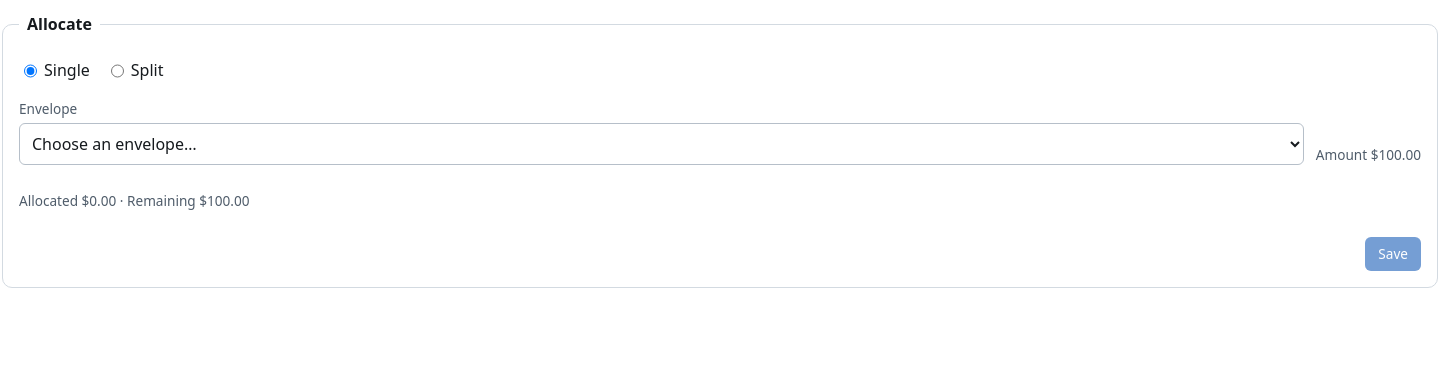
AllocationEditor accelerators (Slice 2) › Enter in an amount adds the next row (keyboard-first)
The width and height of the screenshot is (1440, 373).
Click the radio button labelled "Split" at (117, 71), box left=111, top=55, right=124, bottom=87
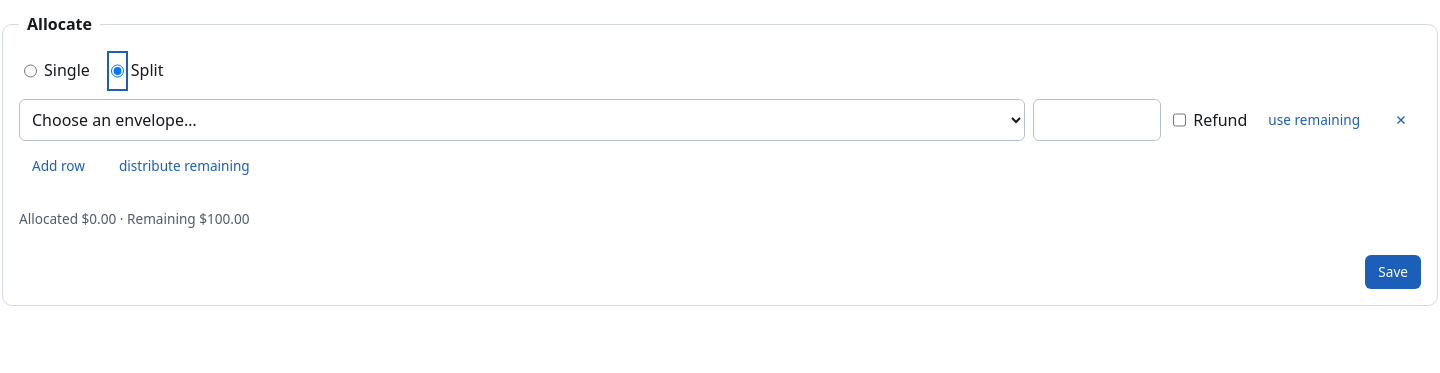
Type "40.00" into the field named "Amount for row 1" at (1097, 120), box left=1033, top=99, right=1161, bottom=141
Then press Enter
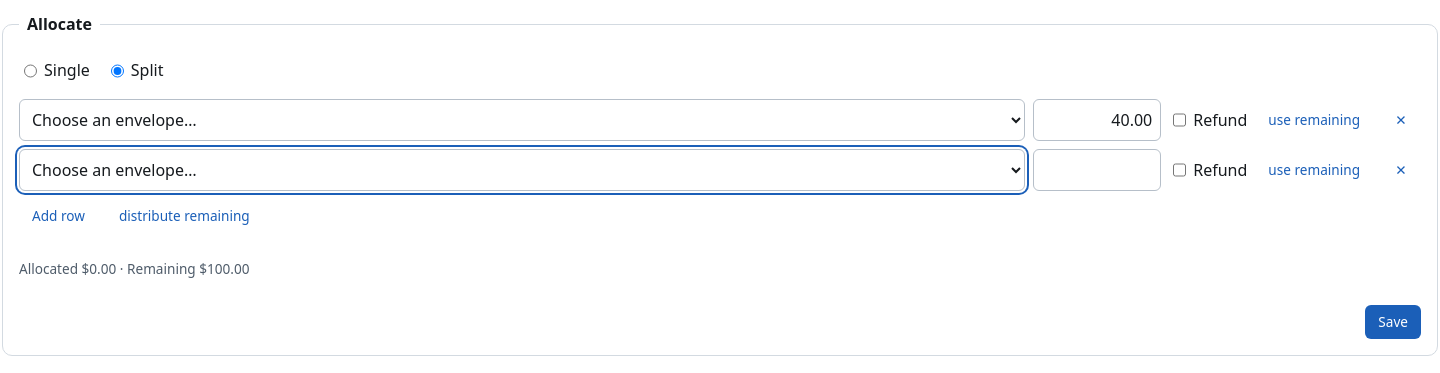
Expected: the field named "Amount for row 2" is shown, left=1033, top=149, right=1161, bottom=191
